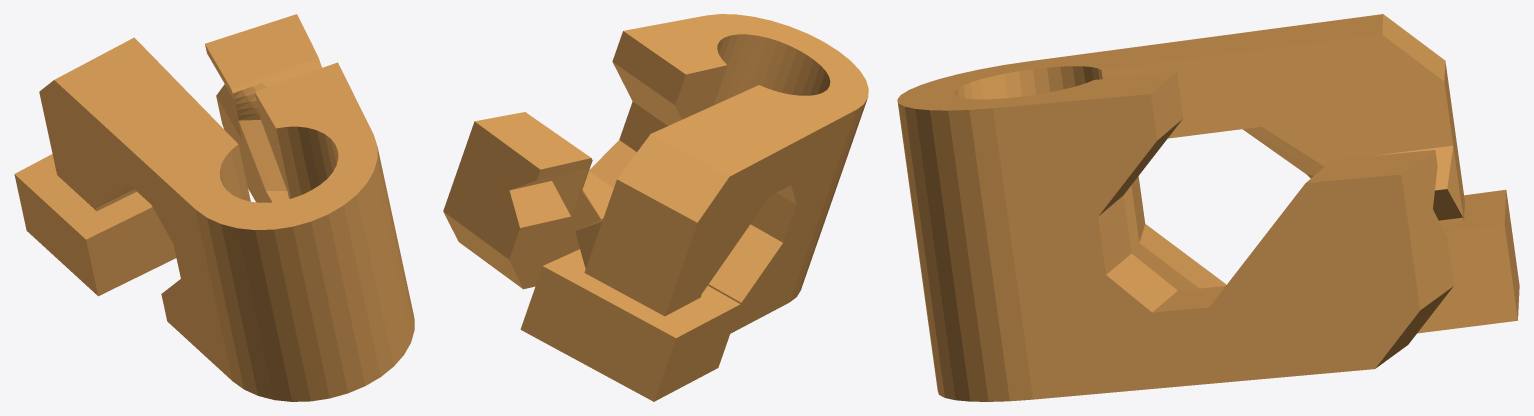
File: barClamp1_6.dae
3 views of the same model, side by side, from view 1: azimuth 30°, elevation 25°; view 2: azimuth 150°, elevation 25°; view 3: azimuth 270°, elevation 25° (orthographic). The views are drawn at different scales.
Visible parts, largest first — view 1: barClamp1_019; view 2: barClamp1_019; view 3: barClamp1_019.
Part boxes in pixels (x1,y1,x2,y2): barClamp1_019: [14, 14, 414, 401]; barClamp1_019: [443, 14, 868, 401]; barClamp1_019: [897, 14, 1519, 401].
Size of the model in its own units: 0.0783 by 0.1162 by 0.072.
